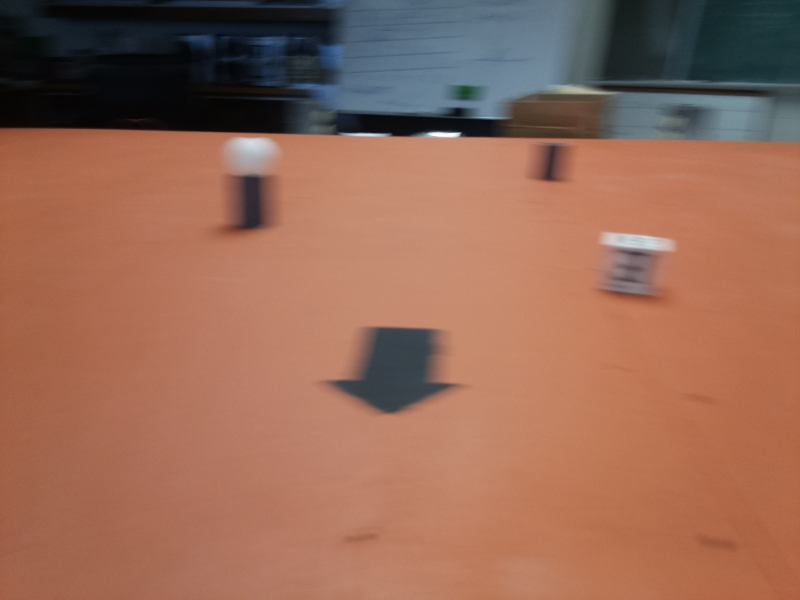blockE: (595, 229, 670, 302)
obstacle: (226, 138, 274, 234), (536, 141, 570, 182)
start: (337, 323, 458, 416)
